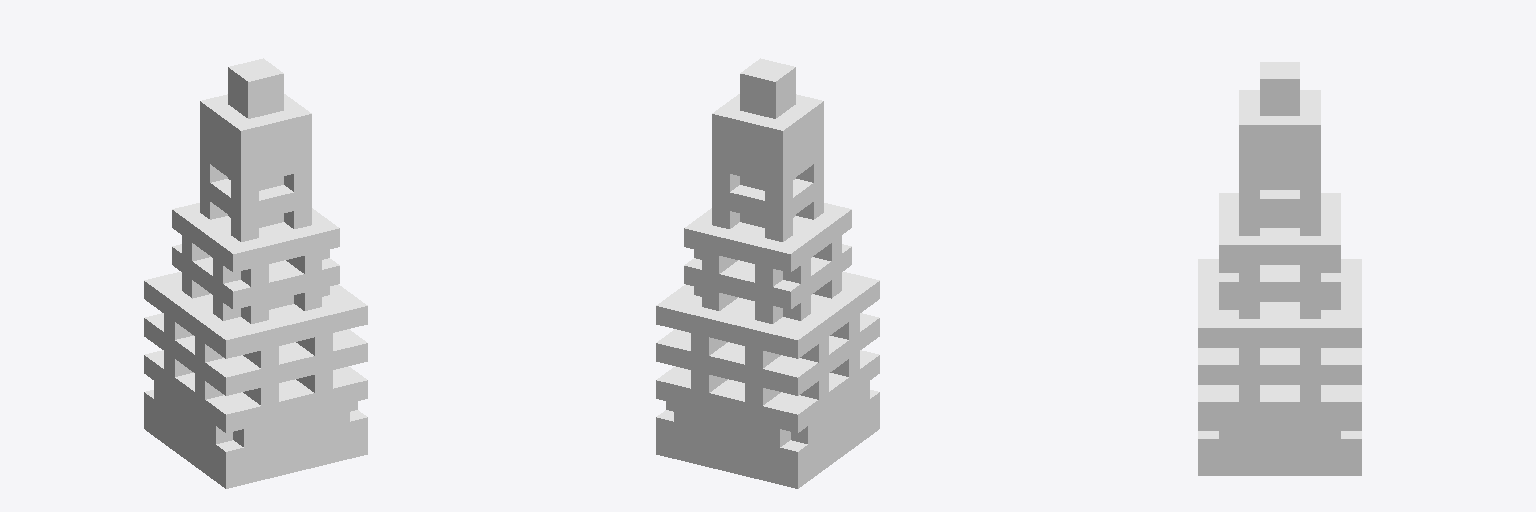
File: CityHall_01.obj
3 views of the same model, side by side, from view 1: azimuth 30°, elevation 25°; view 2: azimuth 150°, elevation 25°; view 3: azimuth 270°, elevation 25° (orthographic).
Visible parts, largest first — view 1: object 1; view 2: object 1; view 3: object 1.
Boxes of the visible parts, <box> form: object 1: <box>144,58,367,488</box>; object 1: <box>656,58,879,488</box>; object 1: <box>1198,62,1361,475</box>.
Size of the model in its own units: 0.8 by 2 by 0.8.